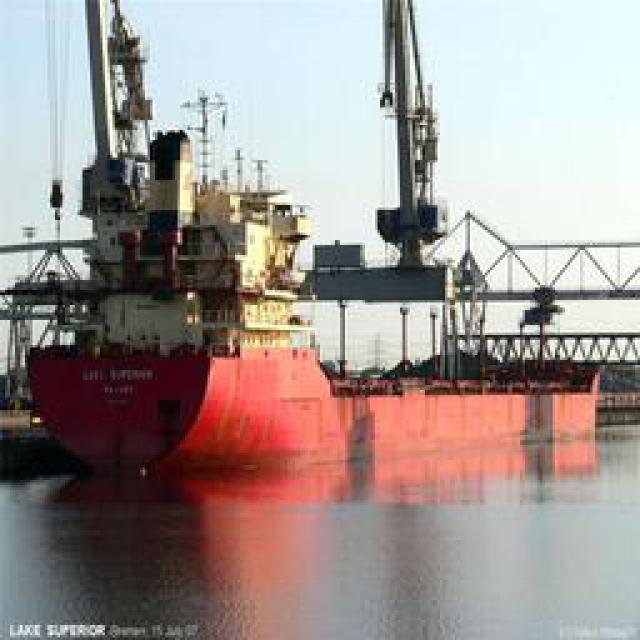Ship: (25, 122, 604, 488)
